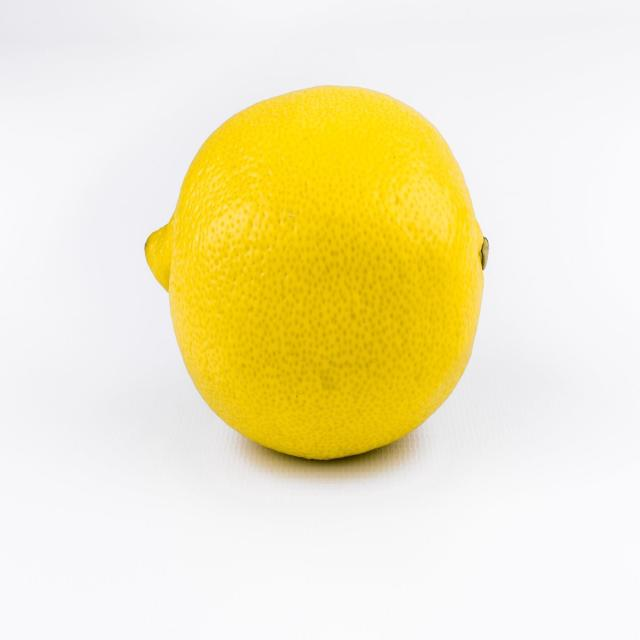lemon: (137, 78, 494, 468)
